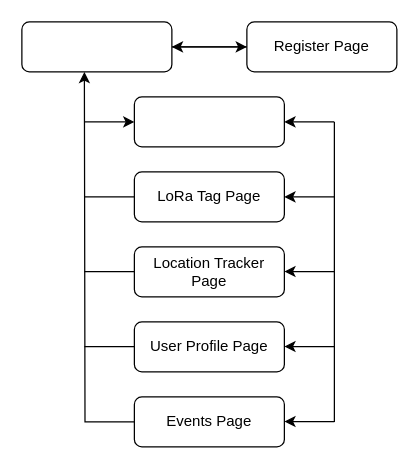
This 419x469 diagram has some shape labels left out. The centre of each missing label's shape, as x and y in pixels:
"Dashboard Page" belongs at point (208, 121).
"Login Page" belongs at point (96, 46).
